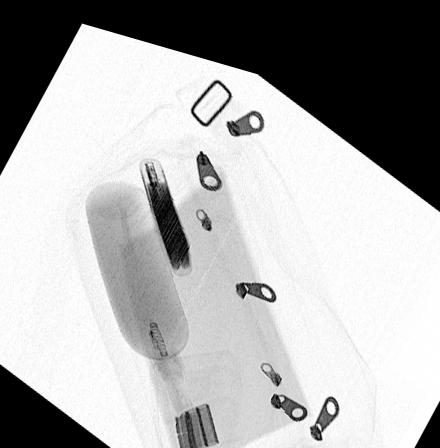Powerbank: (138, 146, 193, 266)
